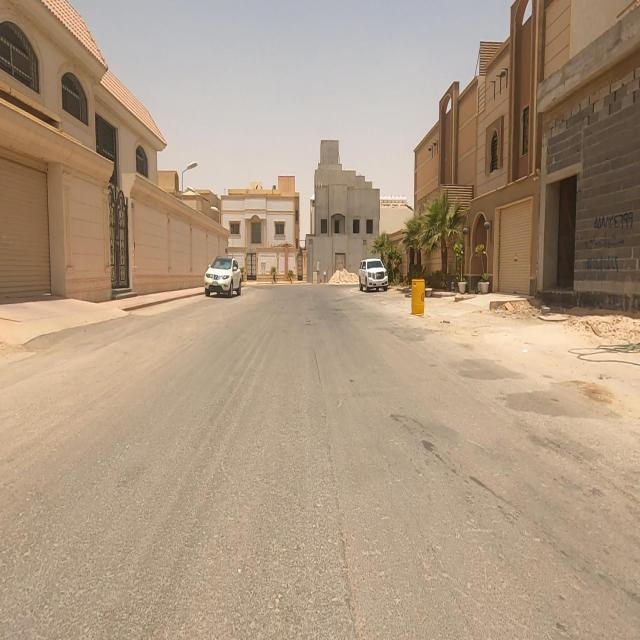Graffiti: (583, 212, 634, 273)
